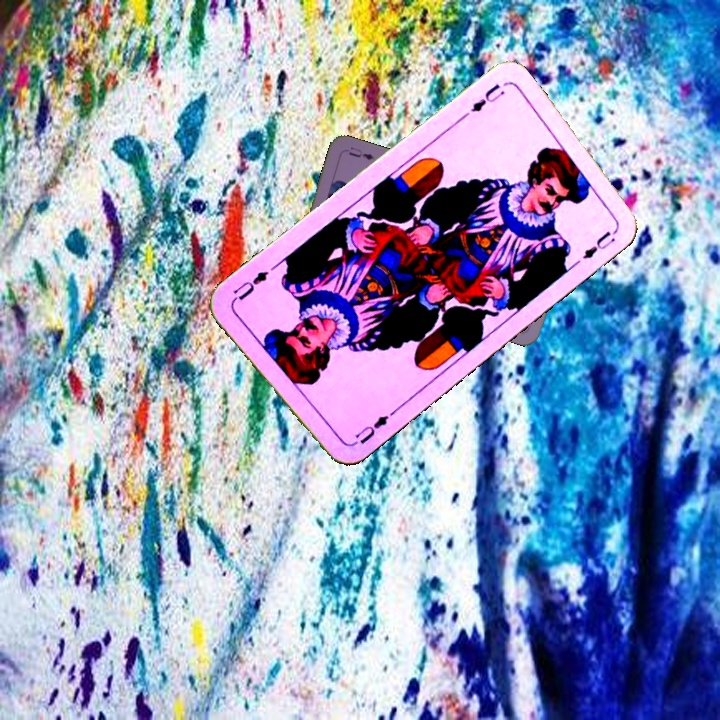EU: (348, 410, 392, 449), (466, 80, 507, 115)
